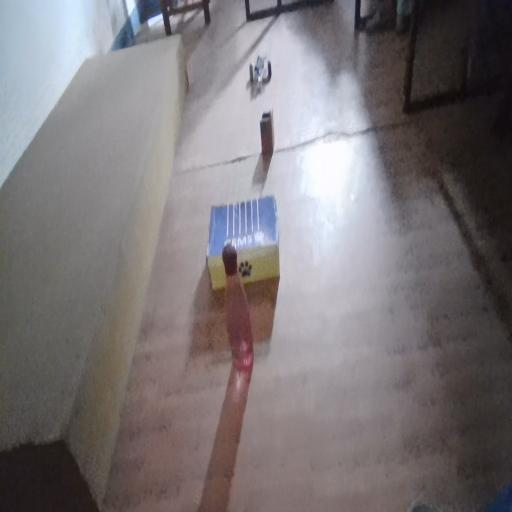Bottle: (211, 234, 267, 374)
car: (241, 52, 288, 87)
